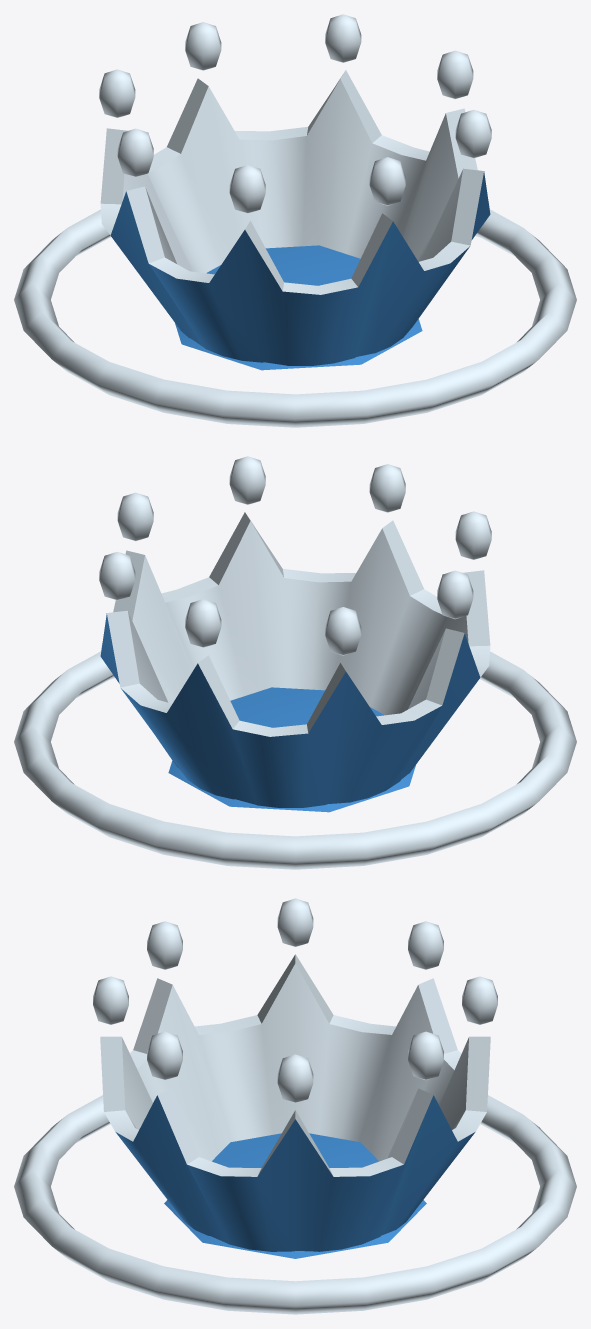
Rendered from pixor-library-splash.glb.
3 renders of one model, top to bottom at view 1: azimuth 30°, elevation 25°; view 2: azimuth 150°, elevation 25°; view 3: azimuth 270°, elevation 25°, orthographic.
Parts seen in each view (by area): view 1: Splash crown, Splash ring, Splash droplets, Splash jet; view 2: Splash crown, Splash ring, Splash droplets, Splash jet; view 3: Splash crown, Splash ring, Splash droplets, Splash jet.
Part boxes in pixels (x1,y1,x2,y2): Splash crown: (100,70,490,365); Splash ring: (14,209,576,427); Splash droplets: (99,14,491,213); Splash jet: (175,245,422,370); Splash crown: (100,512,490,807); Splash ring: (14,651,576,869); Splash droplets: (99,456,491,655); Splash jet: (168,687,415,812); Splash crown: (100,954,490,1251); Splash ring: (14,1095,576,1314); Splash droplets: (93,898,497,1102); Splash jet: (164,1133,426,1258).
Size of the model in its own units: 0.428 by 0.1905 by 0.428.
